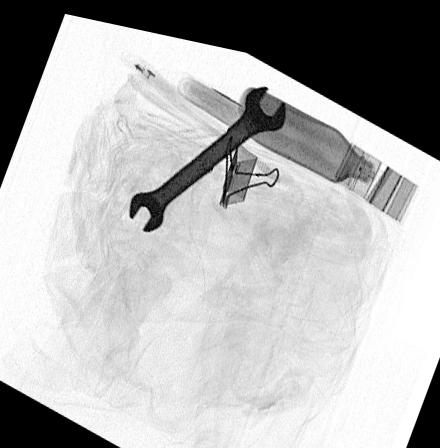Wrench: (128, 75, 285, 227)
